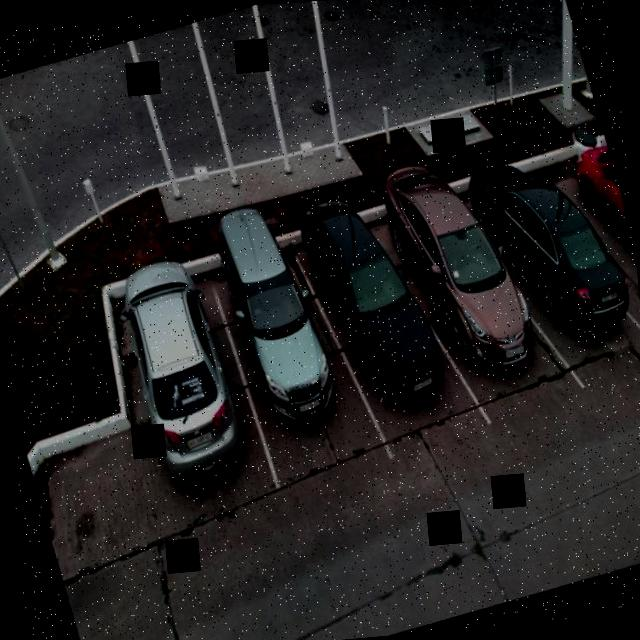car: (282, 188, 488, 472), (357, 162, 560, 434), (198, 230, 388, 492), (94, 262, 278, 524), (459, 147, 640, 393), (541, 121, 640, 363)
